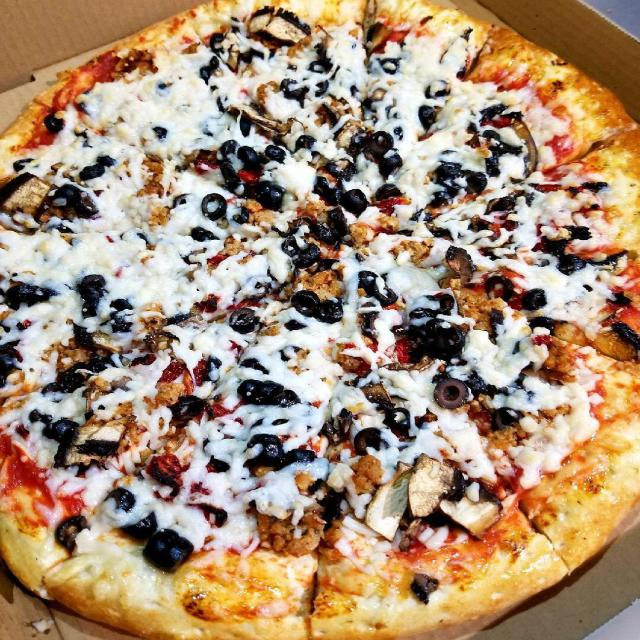black_olives: (539, 224, 595, 254), (5, 283, 59, 310), (467, 373, 527, 396), (142, 527, 178, 564), (245, 434, 283, 466), (432, 377, 469, 409), (396, 323, 428, 359), (164, 536, 193, 575), (352, 425, 388, 456), (311, 177, 344, 208), (58, 516, 88, 550), (270, 450, 318, 470), (366, 280, 401, 306), (279, 78, 309, 108), (109, 297, 133, 332), (291, 290, 321, 318), (555, 252, 590, 276), (484, 276, 516, 302), (104, 487, 137, 512), (302, 220, 335, 245), (421, 293, 458, 315), (230, 306, 258, 334), (342, 188, 370, 216), (200, 193, 228, 221), (292, 242, 320, 270), (520, 287, 550, 313), (490, 405, 522, 429), (69, 324, 98, 350), (314, 298, 343, 324), (327, 157, 357, 182), (356, 270, 383, 297), (382, 407, 411, 432), (378, 153, 402, 182), (256, 381, 282, 407), (440, 326, 466, 352), (77, 275, 106, 298), (424, 78, 454, 100), (74, 192, 100, 217), (326, 211, 350, 238), (359, 309, 379, 341), (42, 382, 77, 400), (59, 366, 89, 387), (238, 357, 271, 376), (188, 225, 221, 244), (310, 478, 335, 503), (262, 184, 284, 212), (172, 396, 205, 414), (44, 420, 76, 438), (218, 159, 241, 184), (81, 292, 101, 320), (316, 258, 344, 278), (296, 133, 319, 157), (371, 132, 394, 156), (236, 145, 259, 169), (529, 318, 558, 337), (233, 379, 258, 401), (468, 171, 490, 196), (271, 388, 298, 407), (418, 103, 438, 128), (281, 236, 306, 256), (202, 356, 220, 383), (426, 316, 448, 338), (200, 56, 220, 80), (43, 112, 67, 132), (476, 103, 507, 118), (485, 153, 504, 177), (28, 408, 54, 425), (0, 342, 21, 363), (238, 47, 267, 62), (264, 145, 288, 163), (376, 185, 403, 201), (430, 192, 456, 208), (318, 509, 342, 526), (378, 58, 402, 75), (87, 356, 116, 370), (279, 346, 304, 362), (81, 164, 106, 180), (219, 139, 239, 159), (488, 144, 521, 156), (56, 183, 84, 197), (0, 352, 11, 386), (436, 166, 458, 183), (12, 159, 40, 172), (95, 153, 119, 168), (310, 60, 336, 73), (445, 178, 466, 194), (172, 193, 191, 210), (312, 80, 332, 96), (233, 206, 250, 224), (216, 96, 232, 114), (151, 127, 171, 141), (210, 33, 224, 51), (483, 130, 500, 142)
mushrooms: (363, 461, 412, 542), (430, 485, 503, 539), (55, 421, 125, 471), (407, 454, 454, 516), (0, 168, 50, 215), (248, 9, 310, 46), (585, 322, 640, 362), (224, 103, 282, 136), (584, 248, 635, 279), (442, 244, 476, 284), (319, 409, 353, 444), (378, 355, 434, 374), (360, 382, 392, 408), (366, 23, 389, 51), (339, 122, 361, 149), (226, 43, 240, 72)
pizza: (0, 0, 640, 640)
